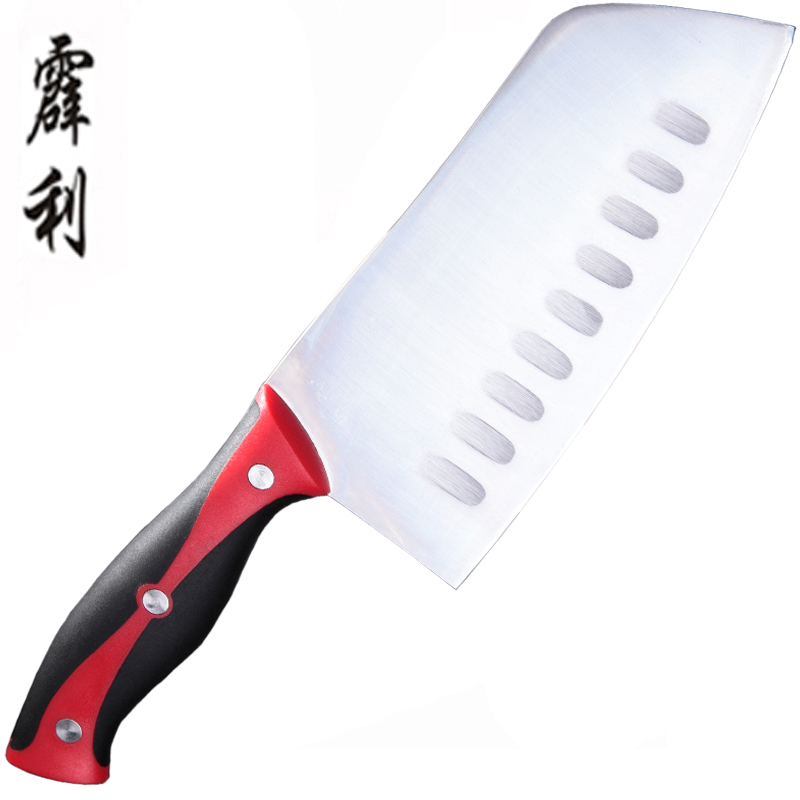knief: (16, 20, 794, 786)
